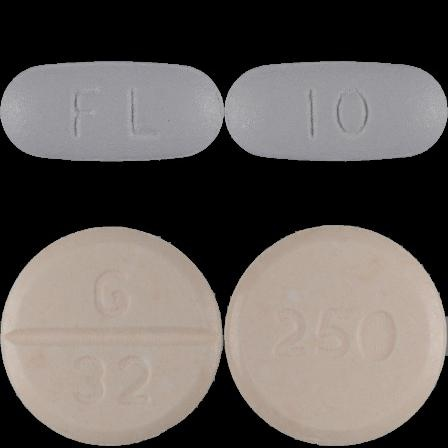67046-489: (0, 0, 224, 224)
